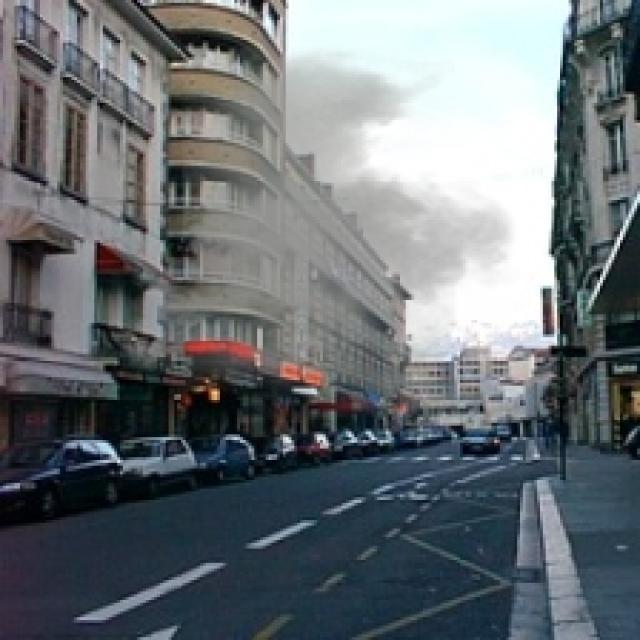Smoke: (106, 46, 532, 420)
